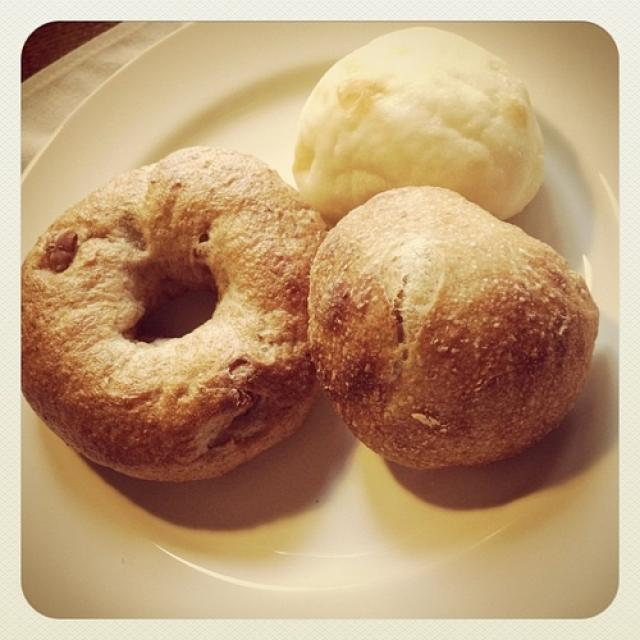面包点心: (26, 47, 617, 581)
